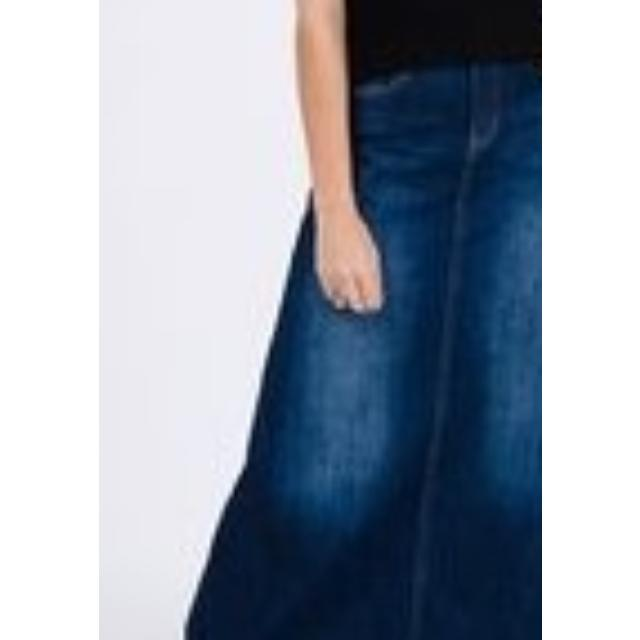denim: (376, 76, 540, 640)
